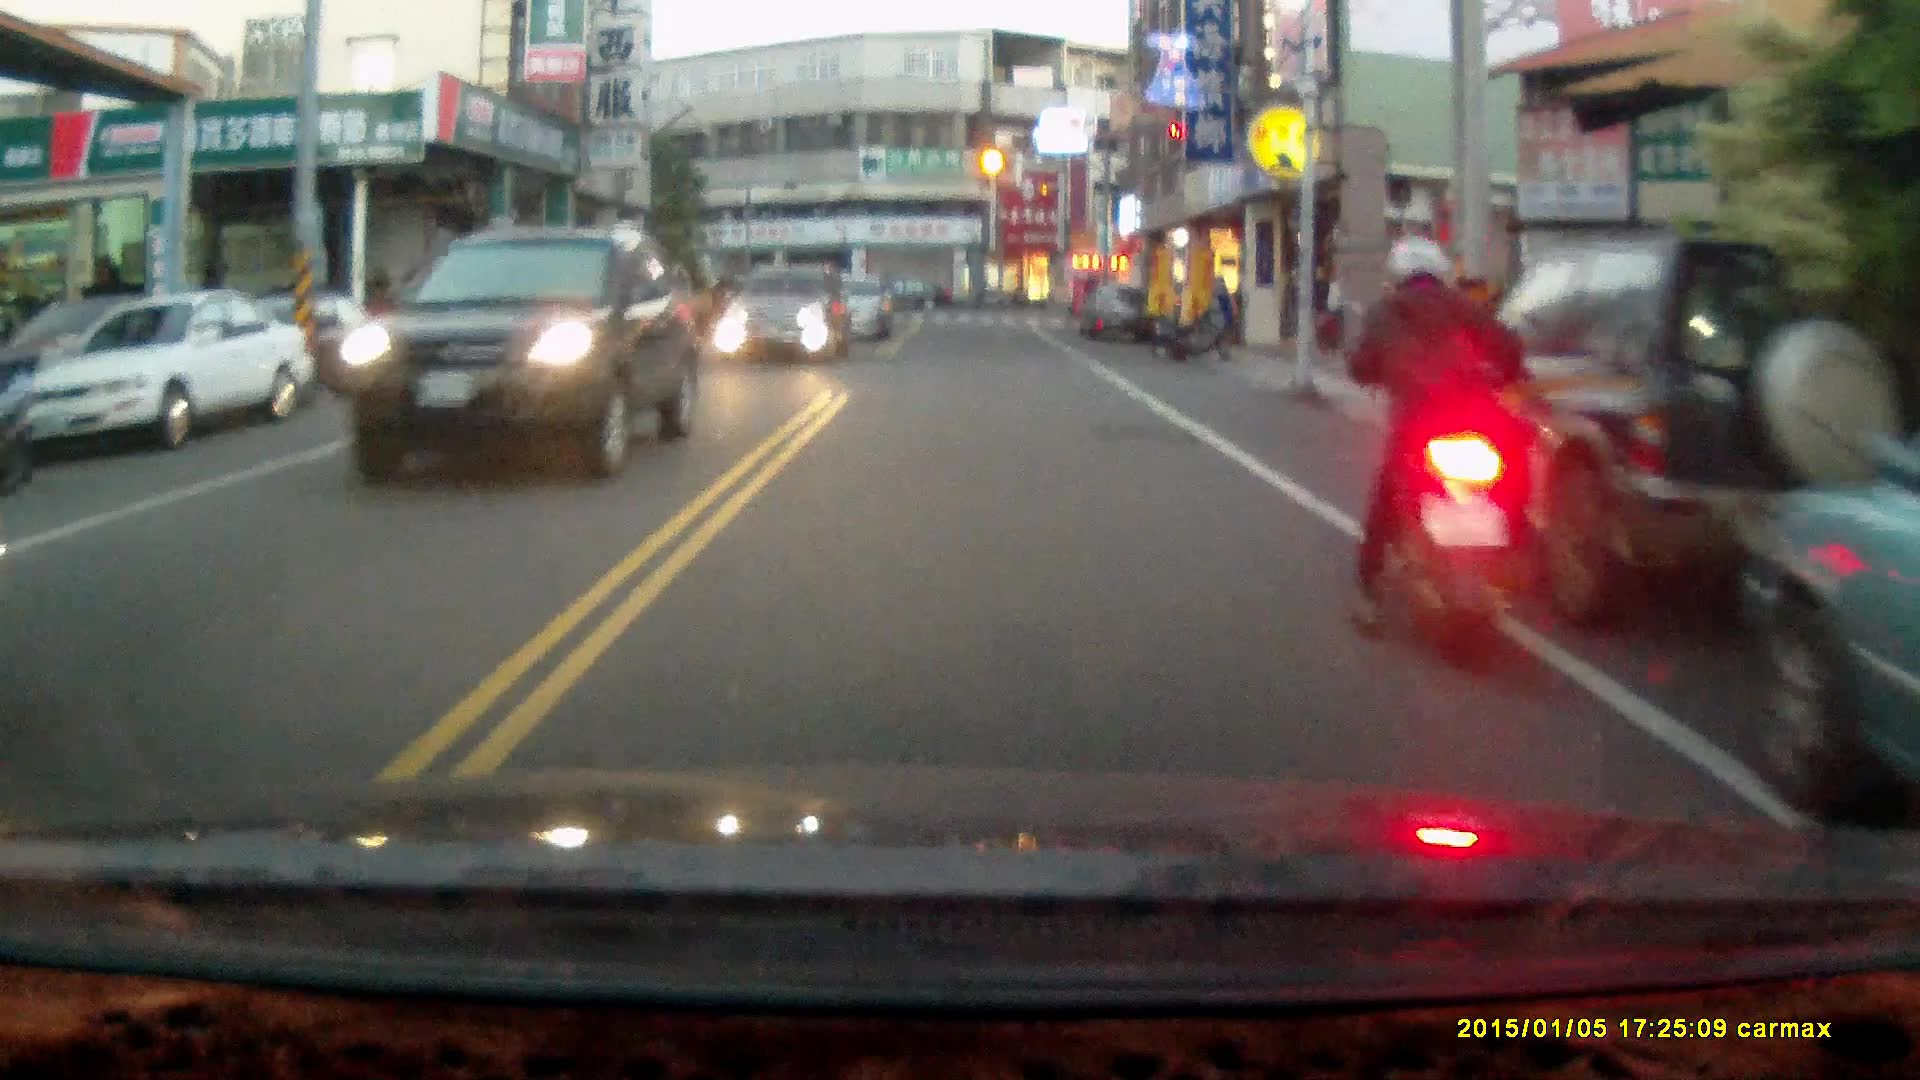rider: (1339, 235, 1556, 668)
vehicle: (1408, 239, 1920, 633), (338, 235, 687, 492), (17, 295, 318, 466), (717, 269, 857, 370), (1080, 286, 1153, 348)
